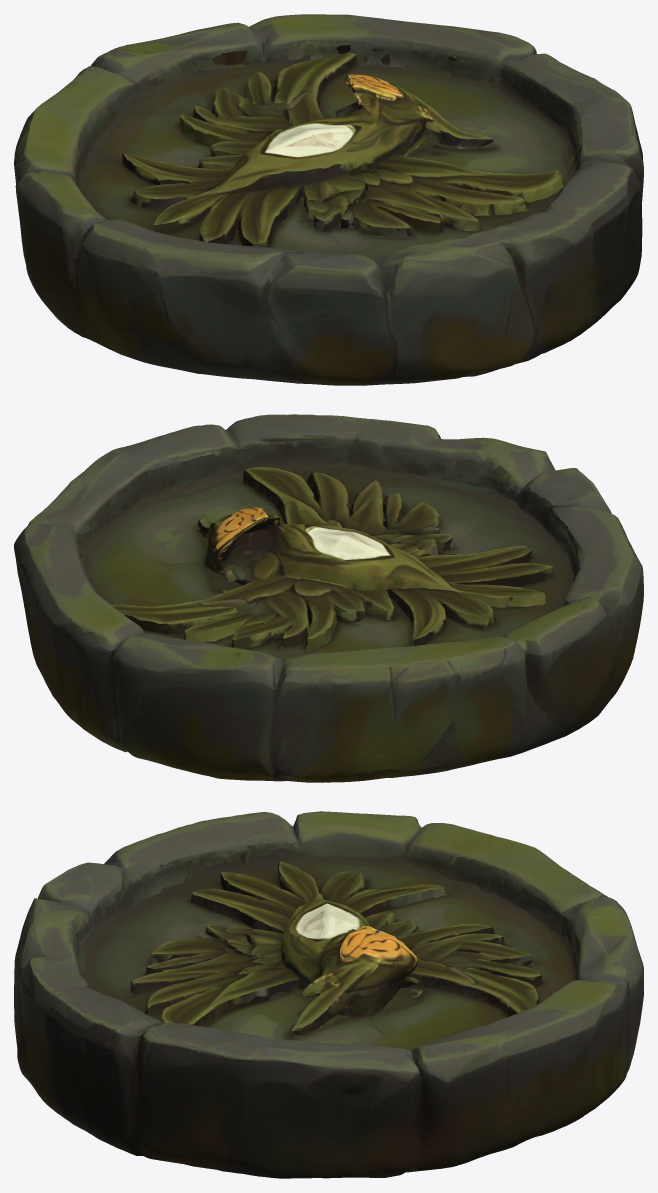
The model's file is item_imprint_thunder_roc.glb.
3 renders of one model, top to bottom at view 1: azimuth 30°, elevation 25°; view 2: azimuth 150°, elevation 25°; view 3: azimuth 270°, elevation 25°, orthographic. The views are drawn at different scales.
Parts seen in each view (by area): view 1: item_imprint_thunder_roc; view 2: item_imprint_thunder_roc; view 3: item_imprint_thunder_roc.
Part boxes in pixels (x1=…): item_imprint_thunder_roc: x1=14, y1=14, x2=643, y2=385; item_imprint_thunder_roc: x1=14, y1=414, x2=643, y2=782; item_imprint_thunder_roc: x1=14, y1=811, x2=643, y2=1178.
Size of the model in its own units: 0.0988 by 0.029 by 0.1.
1 material, 1 textured.
